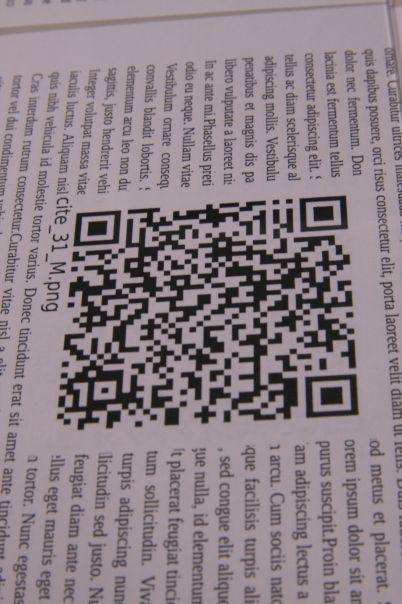Finder pattern: (299, 369, 366, 425), (294, 192, 354, 236), (70, 206, 126, 252)
